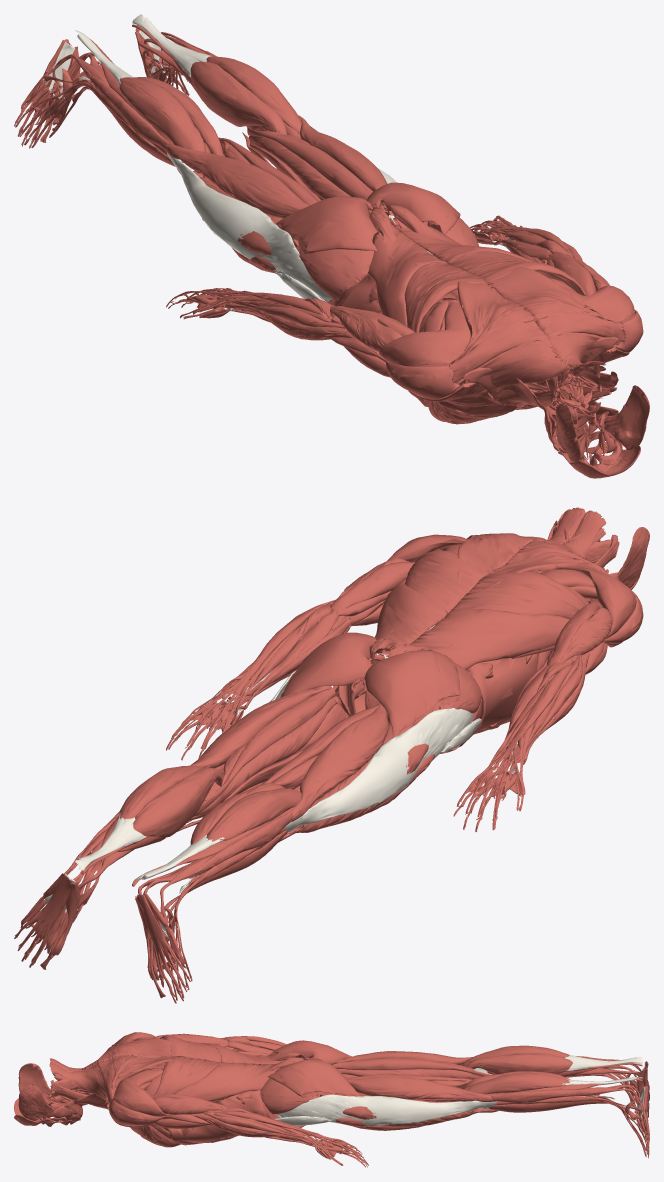
The model's file is anatomy-simplified-60-meshopt.glb.
The picture shows the model from 3 angles, top to bottom: view 1: azimuth 30°, elevation 25°; view 2: azimuth 150°, elevation 25°; view 3: azimuth 270°, elevation 25°; orthographic projection. The views are drawn at different scales.
Visible parts, largest first — view 1: right latissimus dorsi, right iliotibial tract, right gluteus maximus, long head of right biceps femoris, left latissimus dorsi, medial head of left gastrocnemius, ascending part of left trapezius, lateral head of right gastrocnemius, ascending part of right trapezius, descending part of right trapezius, spinal part of right deltoid, right gluteus medius (+28 smaller); view 2: right latissimus dorsi, right iliotibial tract, left latissimus dorsi, right gluteus maximus, long head of right biceps femoris, left gluteus maximus, medial head of left gastrocnemius, right external oblique, long head of left biceps femoris, lateral head of right gastrocnemius, left semimembranosus, left semitendinosus (+28 smaller); view 3: left latissimus dorsi, left iliotibial tract, long head of left biceps femoris, left gluteus maximus, medial head of right gastrocnemius, left external oblique, right latissimus dorsi, lateral head of left gastrocnemius, right semitendinosus, spinal part of left deltoid, left gluteus medius, left fibularis longus (+39 smaller).
Part boxes in pixels (box(x1,y1,x2,y2)): right latissimus dorsi: box(367, 224, 488, 332); right iliotibial tract: box(166, 152, 332, 302); right gluteus maximus: box(276, 196, 379, 253); long head of right biceps femoris: box(165, 143, 309, 218); left latissimus dorsi: box(389, 217, 585, 295); medial head of left gastrocnemius: box(190, 62, 287, 134); ascending part of left trapezius: box(463, 267, 606, 321); lateral head of right gastrocnemius: box(119, 77, 204, 173); ascending part of right trapezius: box(457, 269, 536, 356); descending part of right trapezius: box(477, 339, 585, 387); spinal part of right deltoid: box(379, 329, 472, 367); right gluteus medius: box(296, 246, 374, 300); right latissimus dorsi: box(388, 571, 585, 669); right iliotibial tract: box(284, 708, 473, 832); left latissimus dorsi: box(374, 550, 487, 656); right gluteus maximus: box(364, 650, 460, 737); long head of right biceps femoris: box(291, 704, 388, 821); left gluteus maximus: box(280, 632, 376, 697); medial head of left gastrocnemius: box(133, 767, 222, 837); right external oblique: box(459, 653, 547, 746); long head of left biceps femoris: box(190, 686, 331, 768); lateral head of right gastrocnemius: box(206, 788, 301, 841); left semimembranosus: box(195, 697, 336, 816); left semitendinosus: box(192, 687, 335, 817); left latissimus dorsi: box(154, 1056, 279, 1102); left iliotibial tract: box(277, 1094, 497, 1125); long head of left biceps femoris: box(346, 1076, 492, 1101); left gluteus maximus: box(268, 1058, 360, 1097); medial head of right gastrocnemius: box(465, 1054, 572, 1074); left external oblique: box(165, 1090, 270, 1145); right latissimus dorsi: box(160, 1035, 283, 1064); lateral head of left gastrocnemius: box(466, 1072, 569, 1094); right semitendinosus: box(332, 1058, 492, 1076); spinal part of left deltoid: box(113, 1077, 170, 1116); left gluteus medius: box(260, 1078, 317, 1114); left fibularis longus: box(490, 1088, 642, 1105).
Size of the model in its own units: 639 by 251 by 1672.
